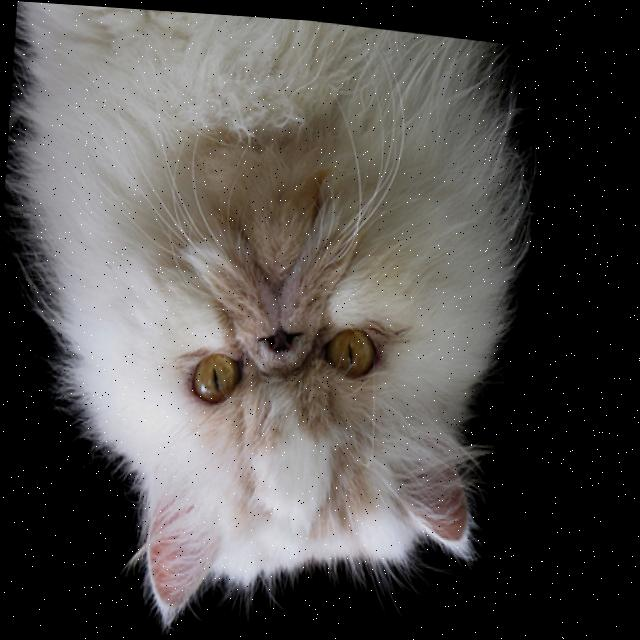Persian: (0, 0, 542, 640)
